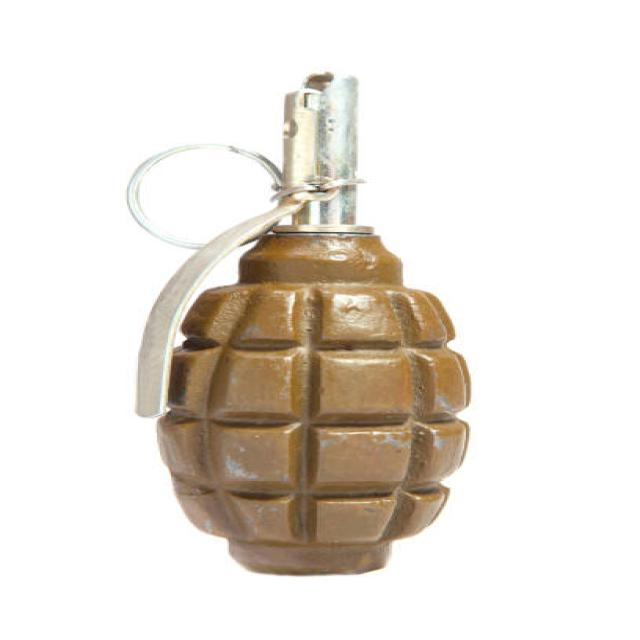grenade: (116, 58, 486, 590)
